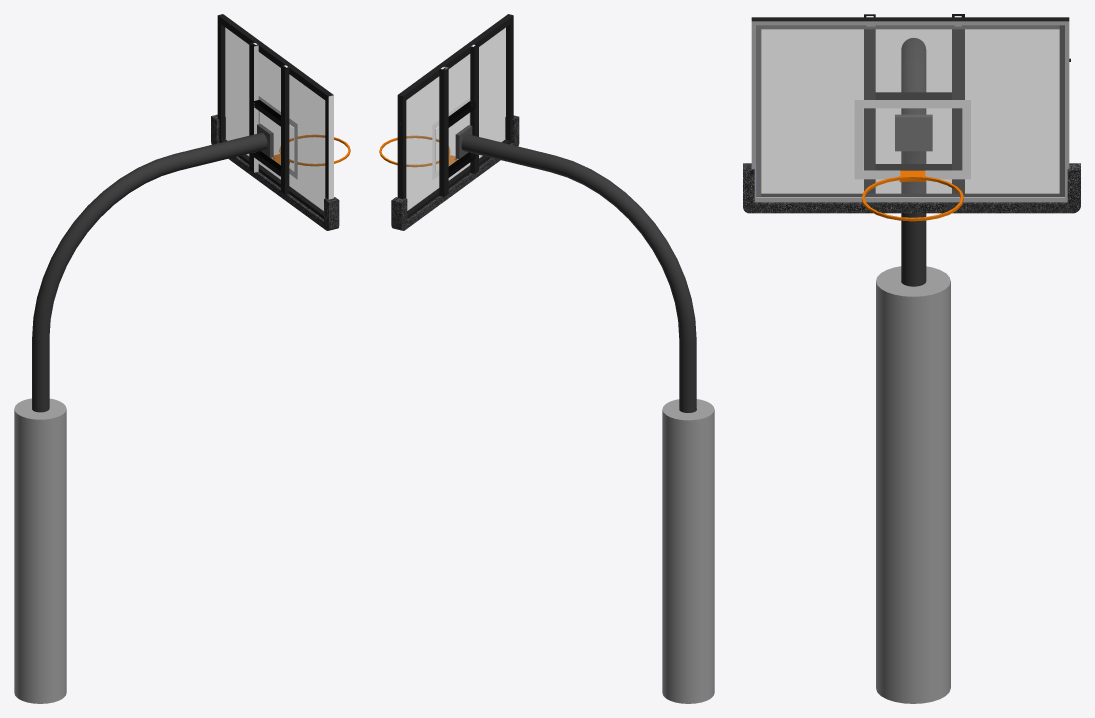
The model's file is bball.obj.
The picture shows the model from 3 angles, left to right: view 1: azimuth 30°, elevation 25°; view 2: azimuth 150°, elevation 25°; view 3: azimuth 270°, elevation 25°; orthographic projection. The views are drawn at different scales.
Parts seen in each view (by area): view 1: Mesh5 Group6 Group1 basketball_rim_with_protective_base1 Model, Mesh1 Group3 Group2 Group1 basketball_rim_with_protective_base1 , Mesh4 Group2 Group1 basketball_rim_with_protective_base1 Model; view 2: Mesh5 Group6 Group1 basketball_rim_with_protective_base1 Model, Mesh1 Group3 Group2 Group1 basketball_rim_with_protective_base1 , Mesh4 Group2 Group1 basketball_rim_with_protective_base1 Model; view 3: Mesh1 Group3 Group2 Group1 basketball_rim_with_protective_base1 , Mesh5 Group6 Group1 basketball_rim_with_protective_base1 Model, Mesh4 Group2 Group1 basketball_rim_with_protective_base1 Model, Mesh2 Group4 Group2 Group1 basketball_rim_with_protective_base1 , Mesh3 Group5 Group2 Group1 basketball_rim_with_protective_base1 .
Part boxes in pixels (x1=…): Mesh5 Group6 Group1 basketball_rim_with_protective_base1 Model: x1=14, y1=398, x2=66, y2=703; Mesh1 Group3 Group2 Group1 basketball_rim_with_protective_base1 : x1=211, y1=14, x2=350, y2=230; Mesh4 Group2 Group1 basketball_rim_with_protective_base1 Model: x1=32, y1=123, x2=273, y2=412; Mesh5 Group6 Group1 basketball_rim_with_protective_base1 Model: x1=662, y1=399, x2=714, y2=703; Mesh1 Group3 Group2 Group1 basketball_rim_with_protective_base1 : x1=379, y1=14, x2=519, y2=230; Mesh4 Group2 Group1 basketball_rim_with_protective_base1 Model: x1=455, y1=125, x2=696, y2=412; Mesh1 Group3 Group2 Group1 basketball_rim_with_protective_base1 : x1=743, y1=14, x2=1080, y2=221; Mesh5 Group6 Group1 basketball_rim_with_protective_base1 Model: x1=876, y1=266, x2=950, y2=703; Mesh4 Group2 Group1 basketball_rim_with_protective_base1 Model: x1=895, y1=38, x2=932, y2=286; Mesh2 Group4 Group2 Group1 basketball_rim_with_protective_base1 : x1=875, y1=92, x2=951, y2=99; Mesh3 Group5 Group2 Group1 basketball_rim_with_protective_base1 : x1=875, y1=164, x2=951, y2=170.
Bounding box in the file's own units: 2.21 × 3.74 × 1.38.
Materials: 12 (2 with a texture image).
